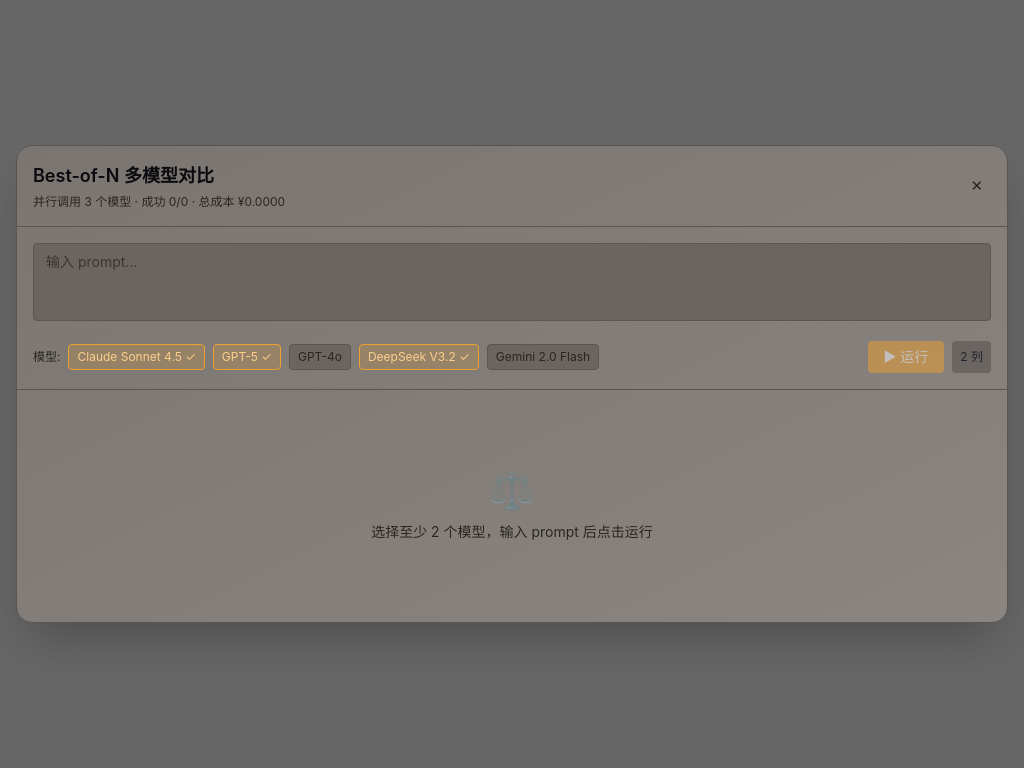
Test: BestOfNPanel › 输入 prompt 后启用运行按钮
This screenshot has width=1024, height=768.
Type "hello" into the text box with test id "best-of-n-prompt" at (512, 282), box [33,243,991,321]
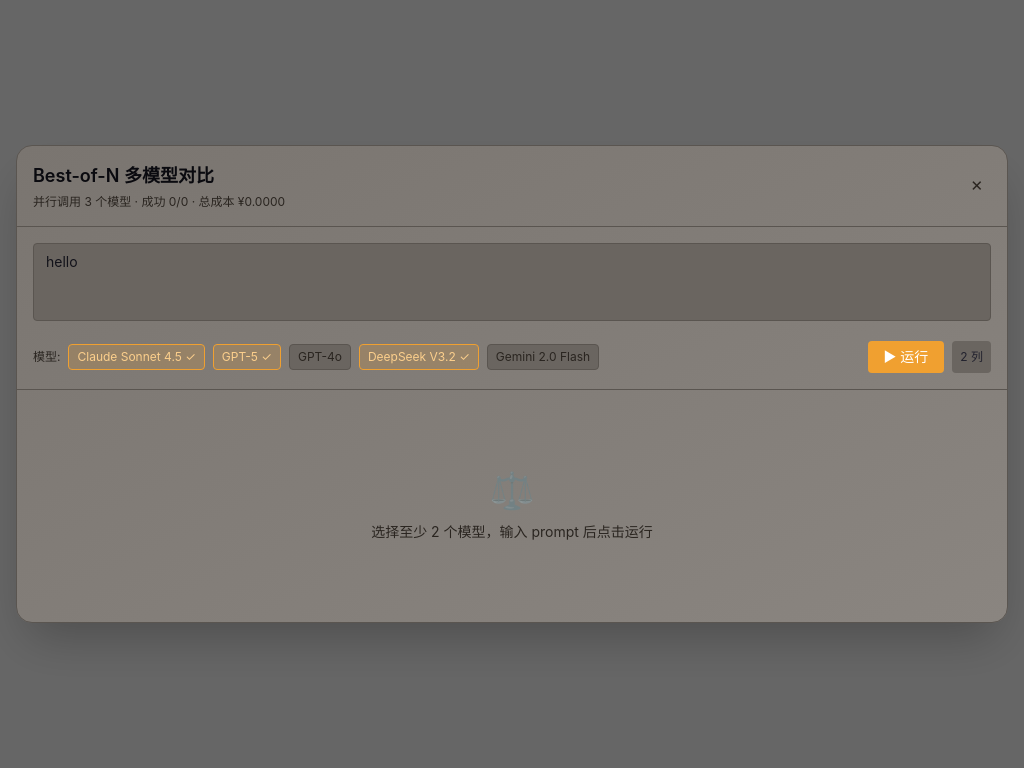
Expected: the button with test id "best-of-n-run" is enabled, [868,341,944,373]
